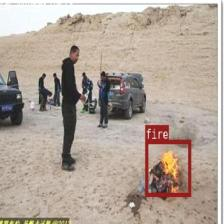fire: (144, 139, 190, 196)
